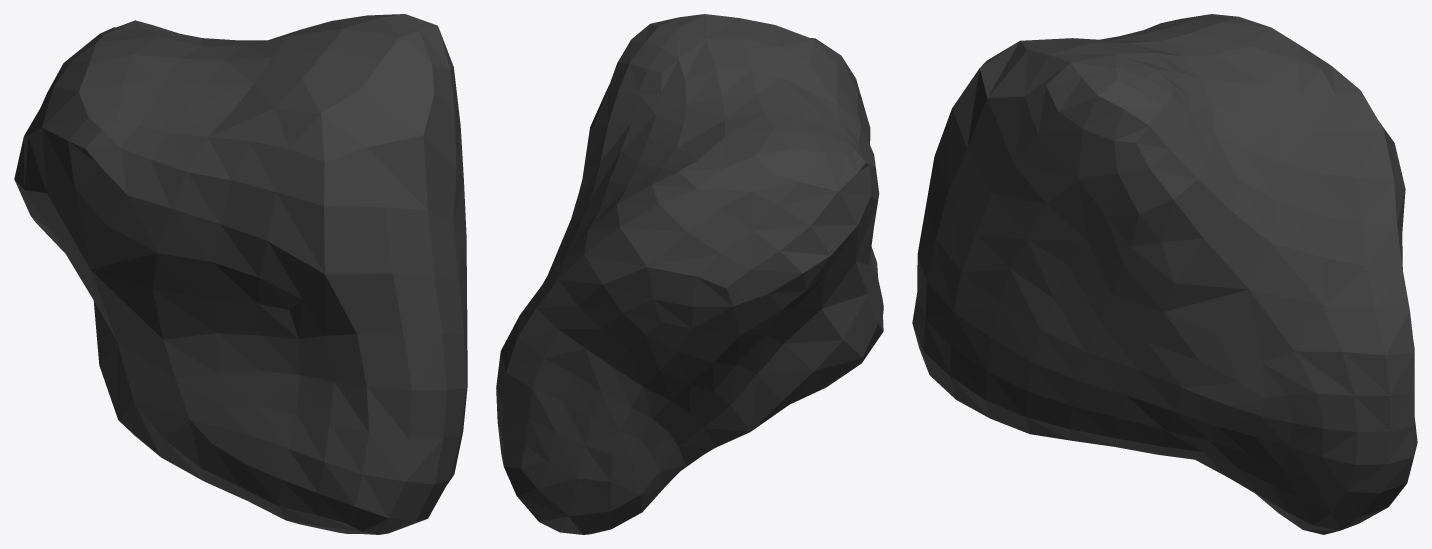
File: C_ulna_bone_C_ulna_bone.glb
3 views of the same model, side by side, from view 1: azimuth 30°, elevation 25°; view 2: azimuth 150°, elevation 25°; view 3: azimuth 270°, elevation 25° (orthographic). The views are drawn at different scales.
Parts seen in each view (by area): view 1: C_ulna_bone_C_ulna_bone; view 2: C_ulna_bone_C_ulna_bone; view 3: C_ulna_bone_C_ulna_bone.
Boxes of the visible parts, x1,y1,x2,y2 form: C_ulna_bone_C_ulna_bone: (14, 14, 467, 534); C_ulna_bone_C_ulna_bone: (496, 14, 883, 534); C_ulna_bone_C_ulna_bone: (912, 14, 1417, 534).
Bounding box in the file's own units: 0.0428 × 0.0622 × 0.0614.
1 material, 1 textured.
